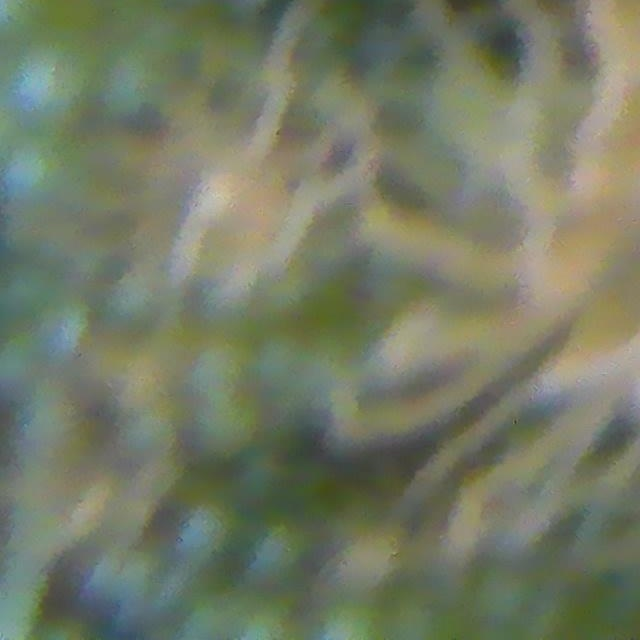SeaGrape: (1, 37, 85, 121), (0, 138, 74, 216), (174, 495, 241, 565), (246, 518, 313, 586), (186, 333, 253, 401), (195, 391, 264, 456), (470, 565, 538, 630), (32, 297, 93, 360), (104, 270, 159, 330), (313, 597, 391, 639), (224, 596, 296, 639)
